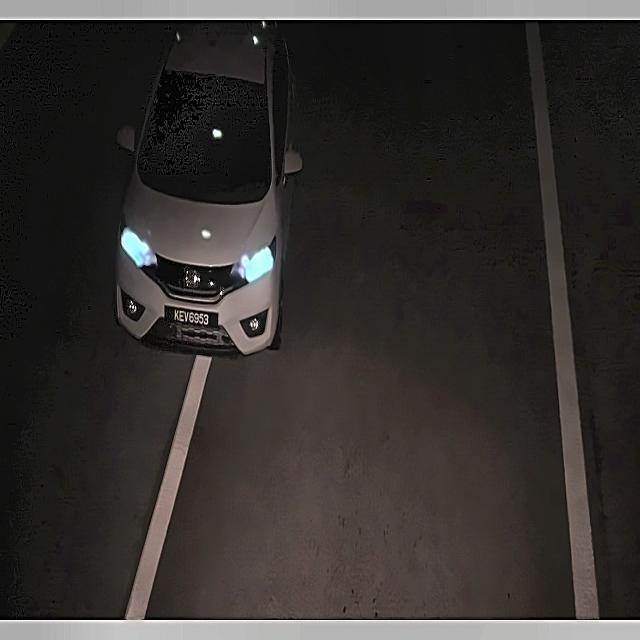car: (162, 296, 224, 338)
